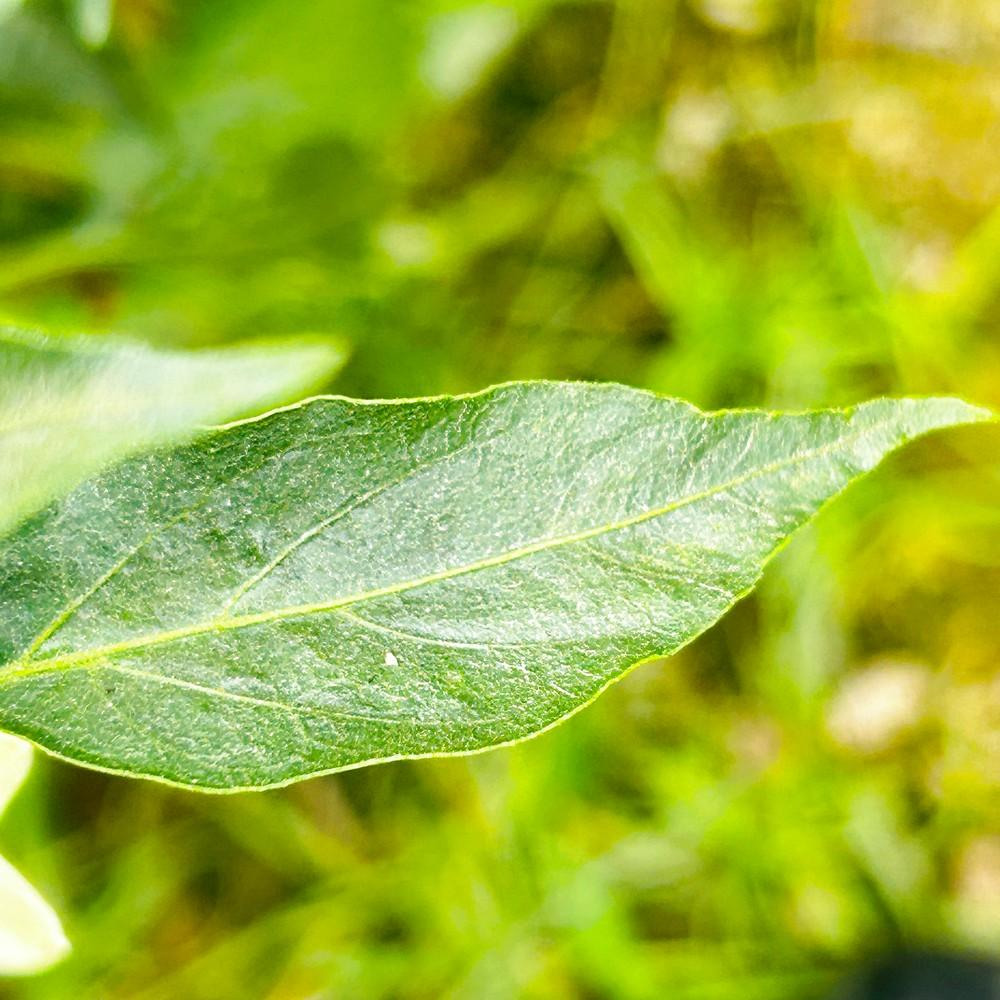Daun Cabai Sehat: (1, 374, 997, 795)
